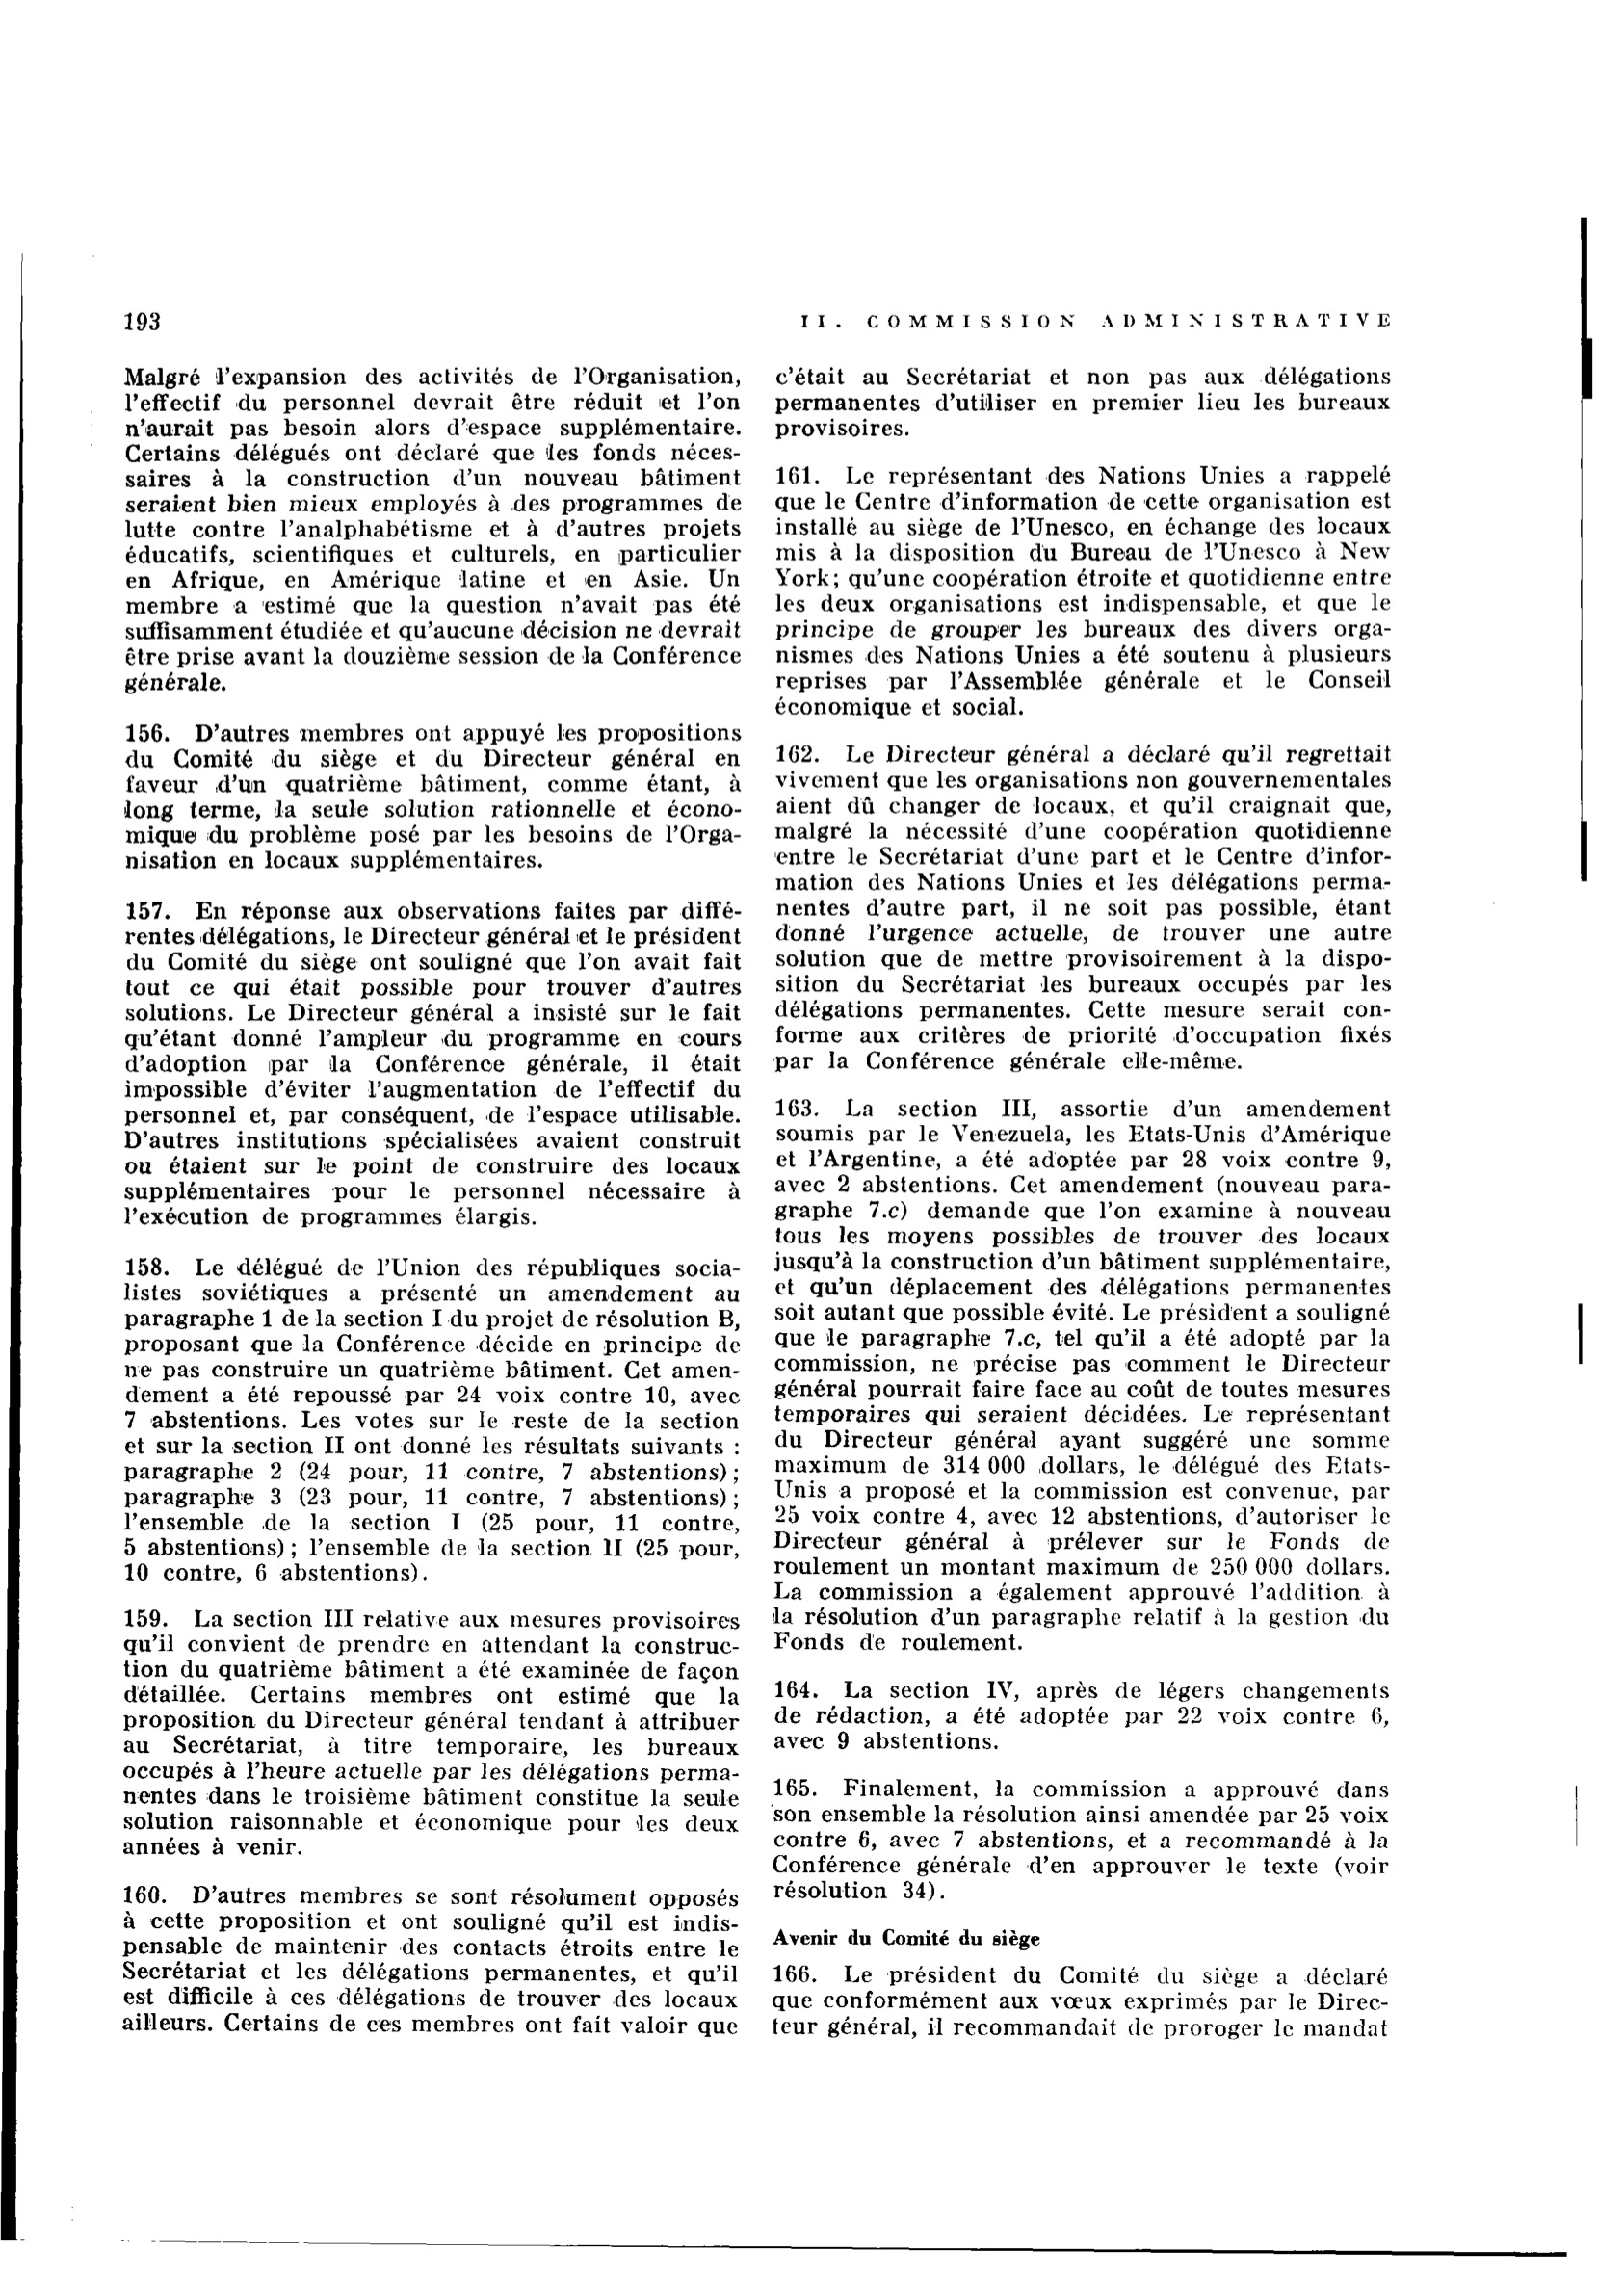MainZone-Continued: (114, 360, 749, 702), (769, 356, 1402, 446)
MainZone-Head: (767, 1921, 1048, 1954)
MainZone-ListItem: (770, 1092, 1400, 1660), (115, 892, 749, 1235), (116, 1247, 748, 1590), (769, 736, 1402, 1078), (768, 457, 1401, 724), (115, 1601, 749, 1864), (113, 1876, 746, 2048), (113, 716, 746, 870), (767, 1770, 1400, 1909), (766, 1958, 1400, 2051), (767, 1672, 1401, 1762)
StampZone: (781, 302, 1399, 339)
TitlePageZone: (118, 303, 169, 340)
